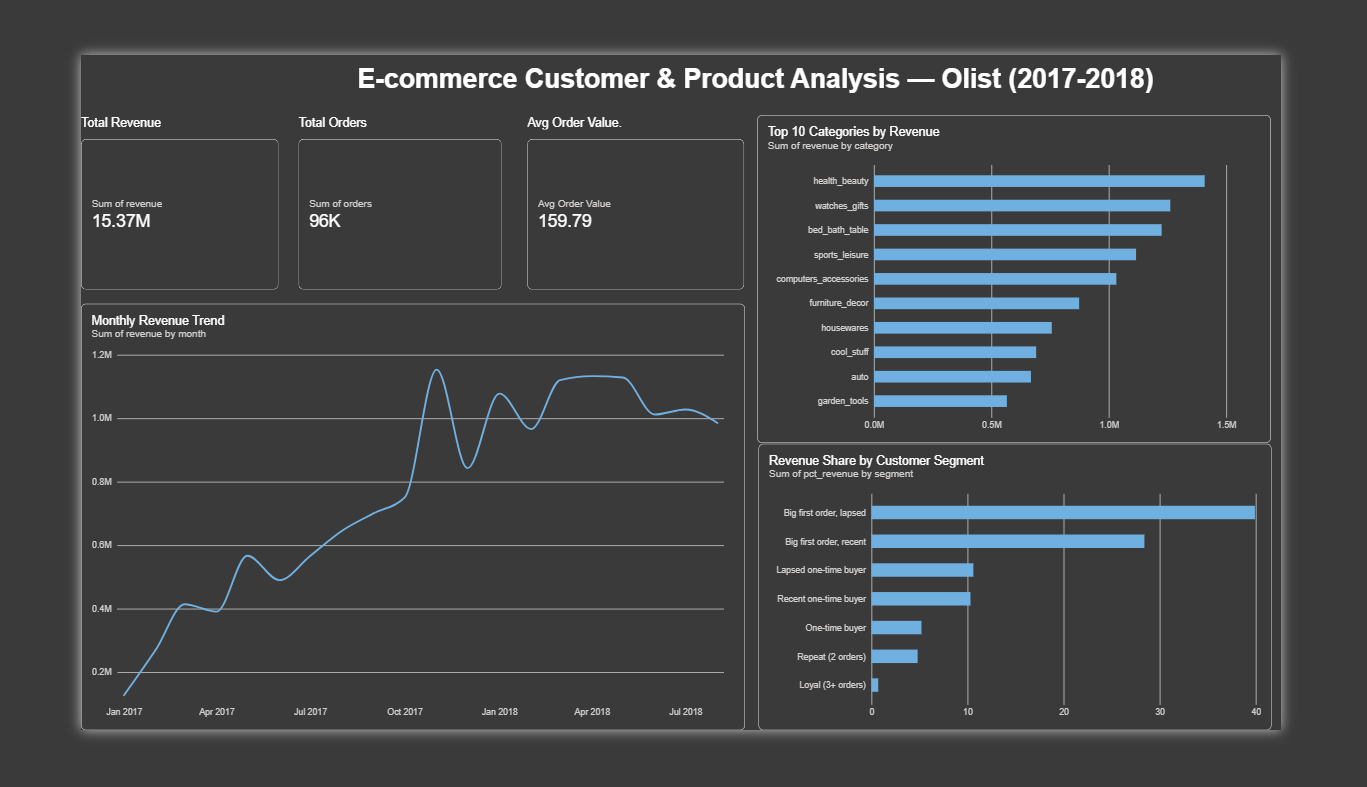

This screenshot's page, from the dashboard's own definition file:
{"tool":"powerbi","page":{"name":"Page 1","canvas":[1920,1080],"ordinal":0},"visuals":[{"type":"cardVisual","title":"Total Revenue","fields":{"Data":["Sum(monthly_revenue.revenue)"]},"box":[0,96.7,317,279.9],"z":0},{"type":"cardVisual","title":"Total Orders","fields":{"Data":["Sum(monthly_revenue.orders)"]},"box":[347.9,96.7,325.2,279.9],"z":1000},{"type":"cardVisual","title":"Avg Order Value.","fields":{"Data":["monthly_revenue.Avg Order Value"]},"box":[714.2,96.7,347.9,279.9],"z":2000},{"type":"lineChart","title":"Monthly Revenue Trend","fields":{"Category":["monthly_revenue.month"],"Y":["Sum(monthly_revenue.revenue)"]},"box":[0,397.5,1062.5,682.5],"z":3000},{"type":"clusteredBarChart","title":"Top 10 Categories by Revenue","fields":{"Category":["top_categories.category"],"Y":["Sum(top_categories.revenue)"]},"box":[1082.7,96.7,821.3,524.9],"z":4000},{"type":"textbox","box":[442.5,14.4,1294.7,55.6],"z":5000},{"type":"clusteredBarChart","title":"Revenue Share by Customer Segment","fields":{"Category":["rfm_segments.segment"],"Y":["Sum(rfm_segments.pct_revenue)"]},"box":[1083,622,821,458],"z":6000}]}

Visuals, with their boxes in screenshot pixels (x1, y1, x2, y2), scaled from the page's 1920x1080 canvas onto the 1367x787 screenshot:
"Total Revenue" cardVisual: x1=0, y1=70, x2=226, y2=274
"Total Orders" cardVisual: x1=248, y1=70, x2=479, y2=274
"Avg Order Value." cardVisual: x1=508, y1=70, x2=756, y2=274
"Monthly Revenue Trend" lineChart: x1=0, y1=290, x2=756, y2=786
"Top 10 Categories by Revenue" clusteredBarChart: x1=771, y1=70, x2=1356, y2=453
textbox: x1=315, y1=10, x2=1237, y2=51
"Revenue Share by Customer Segment" clusteredBarChart: x1=771, y1=453, x2=1356, y2=786
